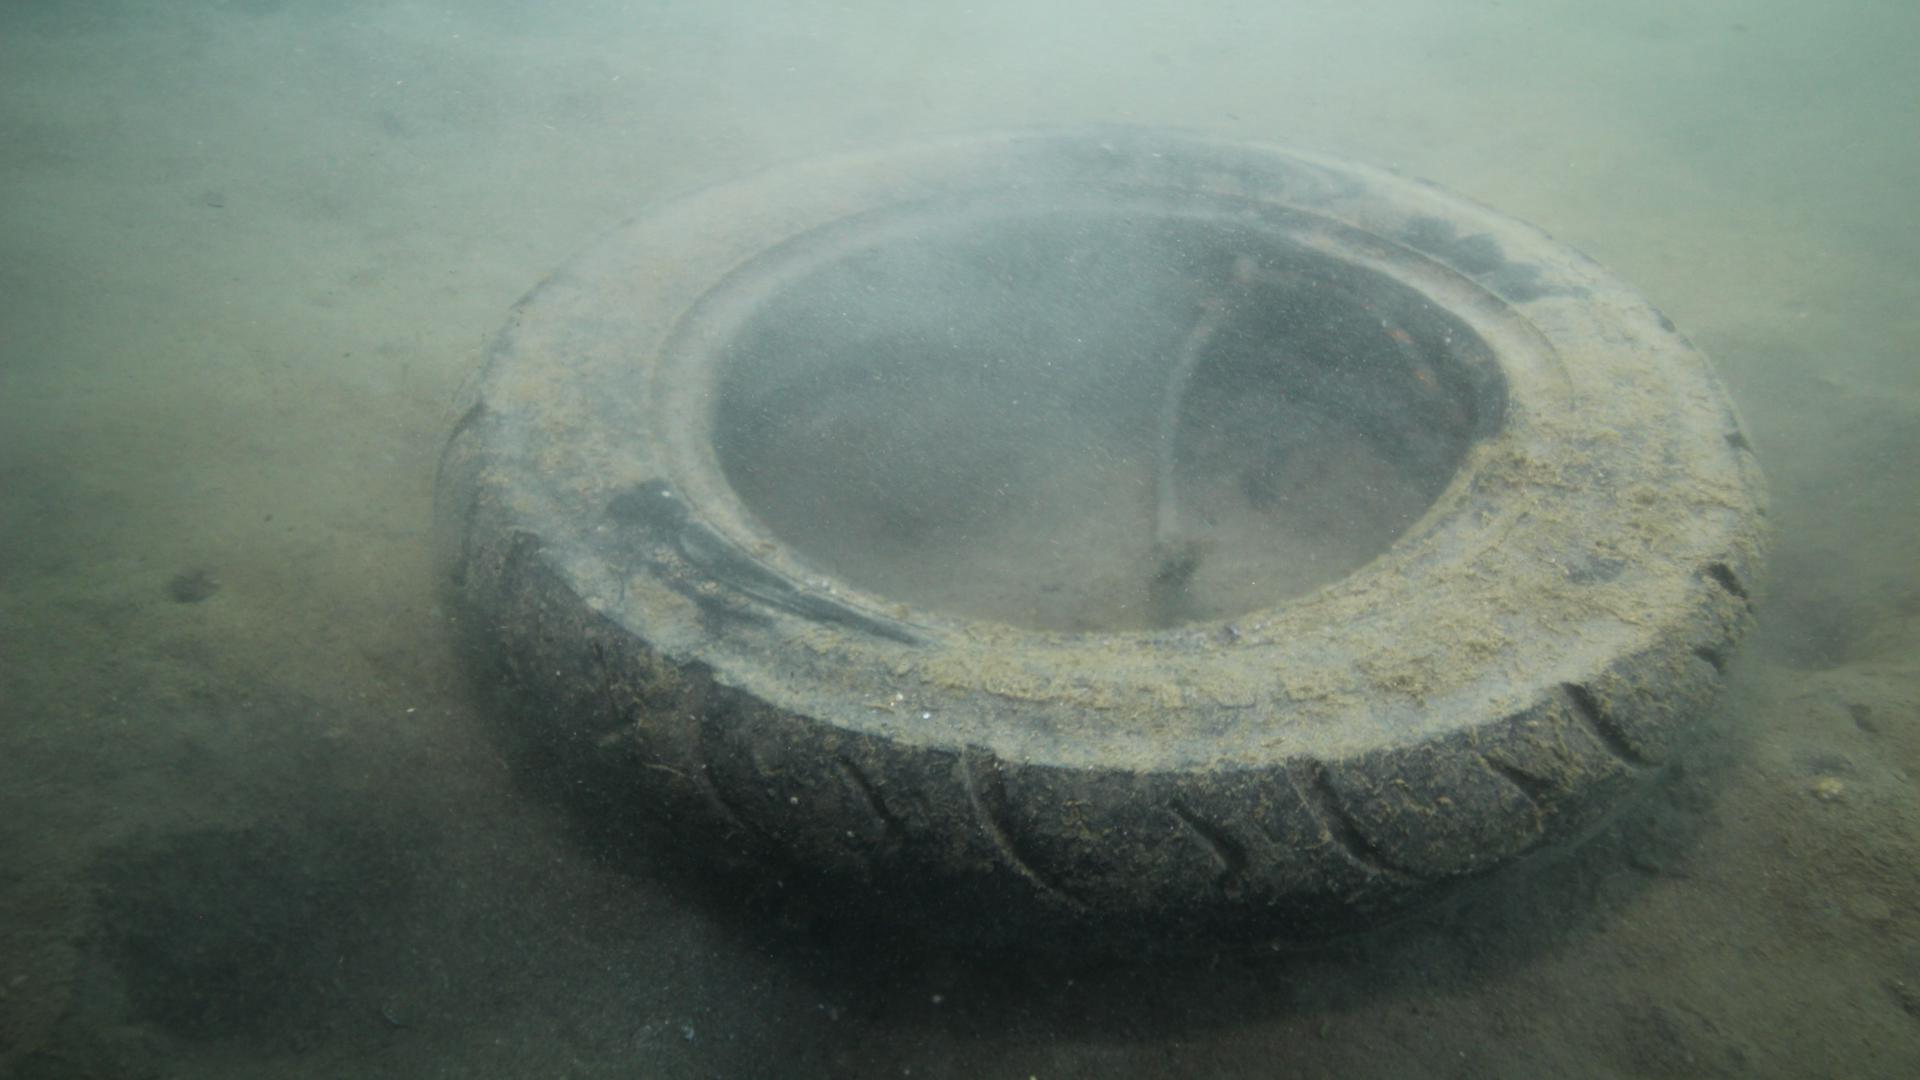tire: (426, 123, 1770, 996)
